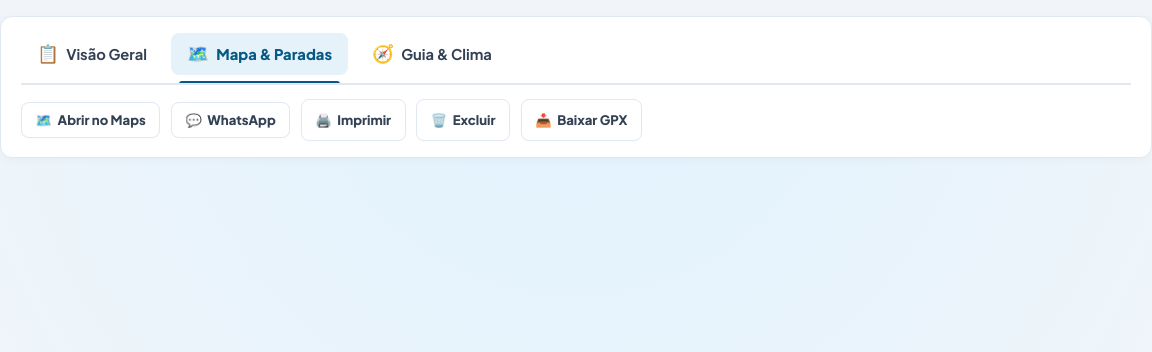
Test: TripNavigationTabs (Issue #11: Abas e Ações da Viagem) › informa falha quando o download GPX não conclui
Click the button "📥 Baixar GPX": {"x": 581, "y": 120} x1=521 y1=99 x2=642 y2=141
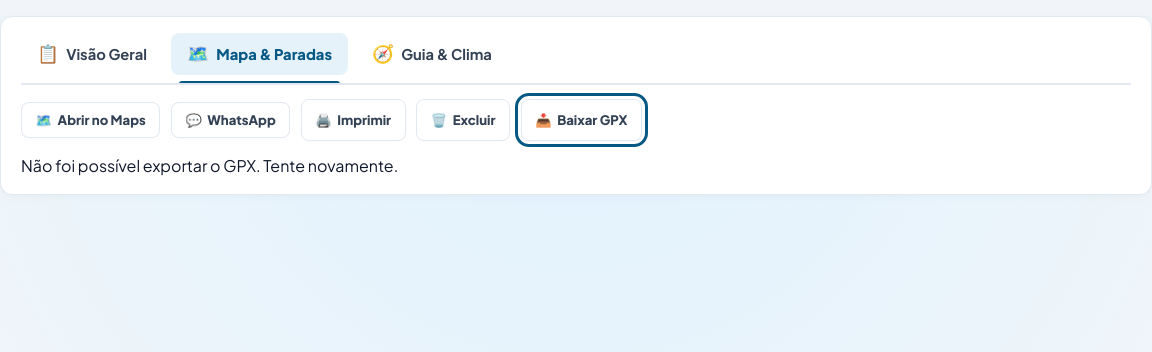
Expected: the message shows "Não foi possível exportar", x1=21 y1=155 x2=398 y2=176
